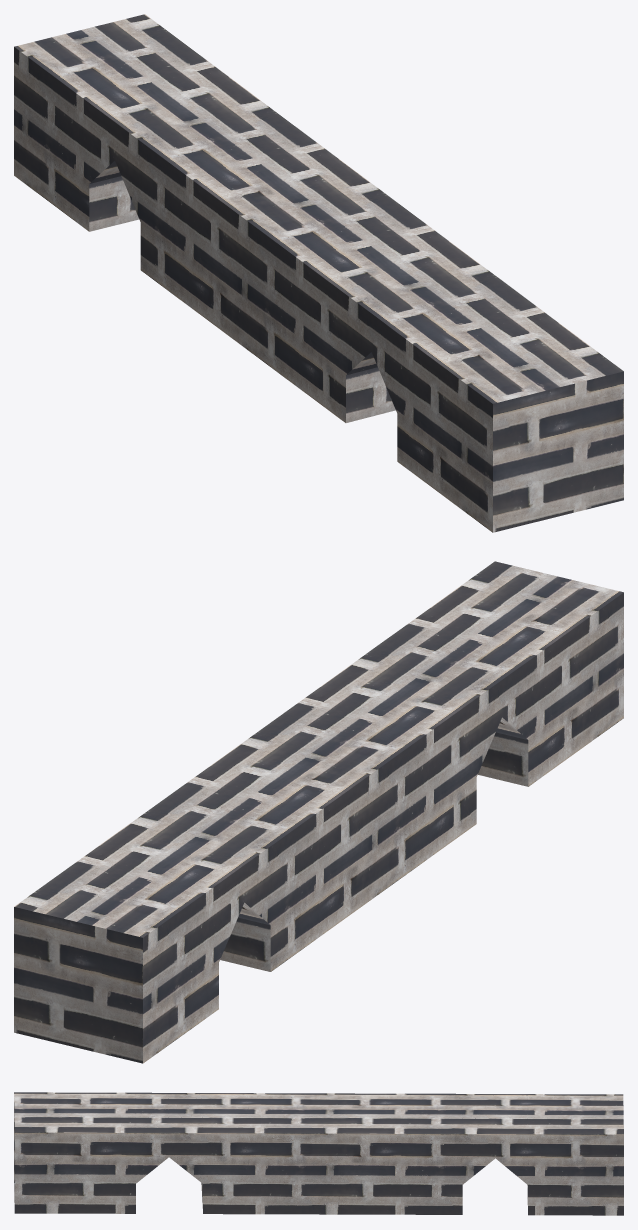
Rendered from SM_W_Foundation_4.fbx.
The picture shows the model from 3 angles, top to bottom: view 1: azimuth 30°, elevation 25°; view 2: azimuth 150°, elevation 25°; view 3: azimuth 270°, elevation 25°; orthographic projection. The views are drawn at different scales.
Visible parts, largest first — view 1: SM_W_Foundation_4; view 2: SM_W_Foundation_4; view 3: SM_W_Foundation_4.
Part boxes in pixels (left/top/right/bottom): SM_W_Foundation_4: left=14, top=14, right=623, bottom=532; SM_W_Foundation_4: left=14, top=561, right=623, bottom=1063; SM_W_Foundation_4: left=14, top=1092, right=623, bottom=1215.
Size of the model in its own units: 38.87 by 236 by 34.55.
1 material, 1 textured.
